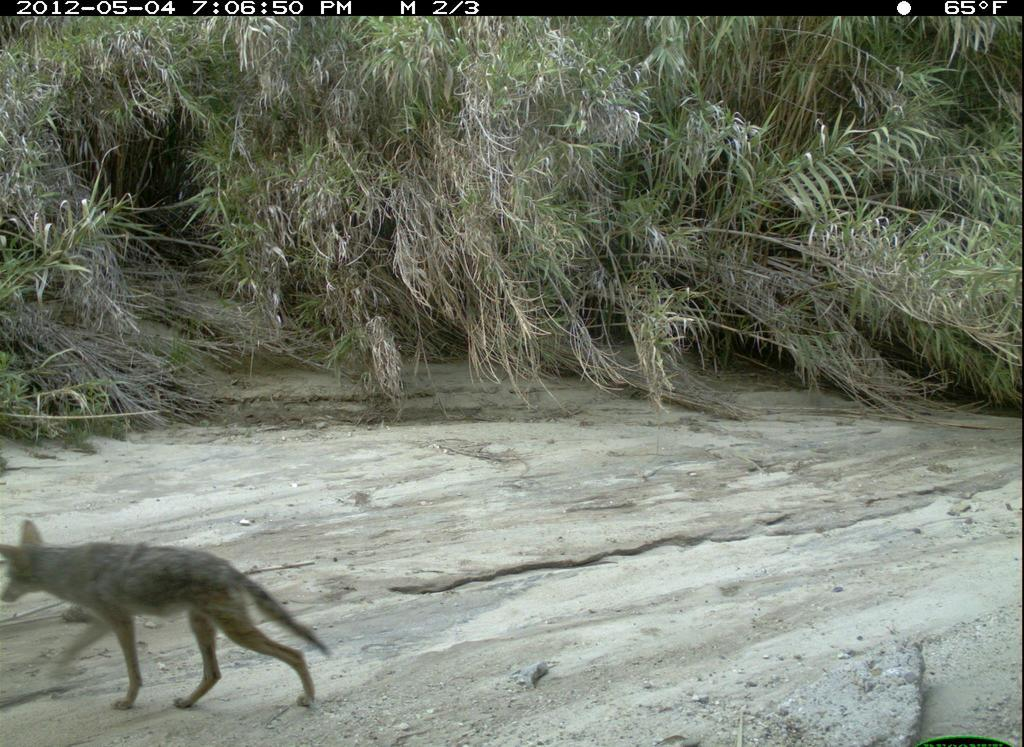coyote: (4, 509, 333, 721)
